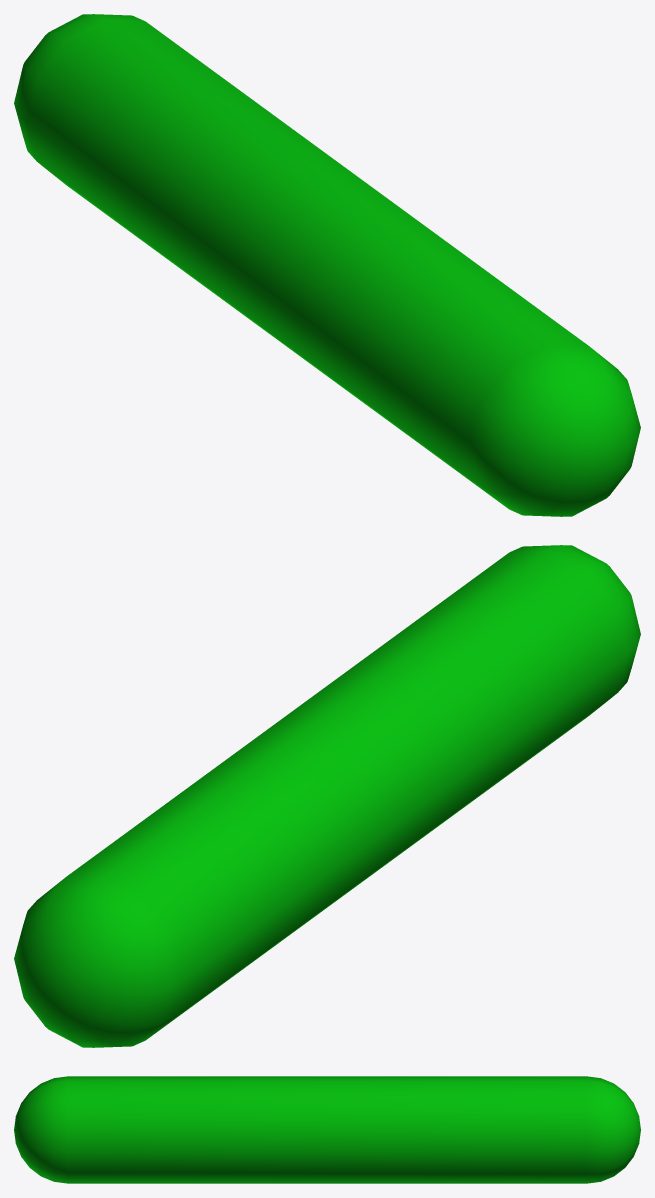
File: Mapa14_TiroC.FBX
3 renders of one model, top to bottom at view 1: azimuth 30°, elevation 25°; view 2: azimuth 150°, elevation 25°; view 3: azimuth 270°, elevation 25°, orthographic. The views are drawn at different scales.
Parts seen in each view (by area): view 1: TiroC_Mapa14; view 2: TiroC_Mapa14; view 3: TiroC_Mapa14.
Part boxes in pixels (x1=…): TiroC_Mapa14: x1=14, y1=14, x2=640, y2=516; TiroC_Mapa14: x1=14, y1=545, x2=640, y2=1047; TiroC_Mapa14: x1=14, y1=1076, x2=640, y2=1183.
Bounding box in the file's own units: 8.98 × 8.98 × 52.32.
